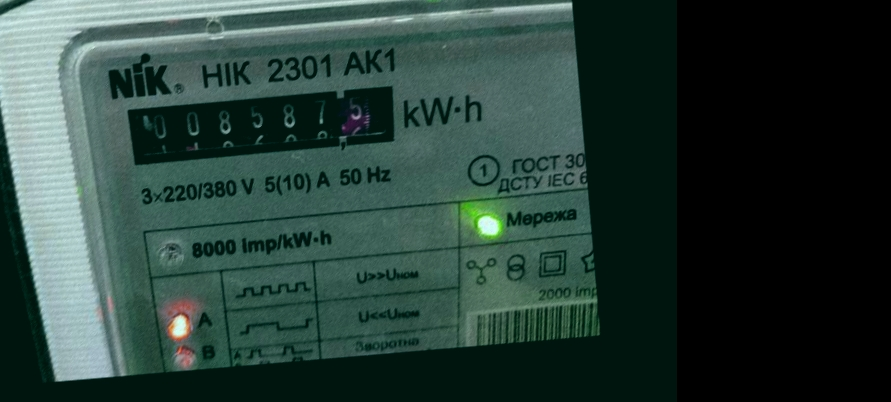0: (149, 111, 168, 141), (183, 109, 202, 138)
5: (346, 94, 366, 124), (247, 102, 266, 132)
7: (310, 96, 330, 127)
8: (278, 100, 298, 131), (215, 107, 233, 136)
screen: (107, 70, 415, 178)
